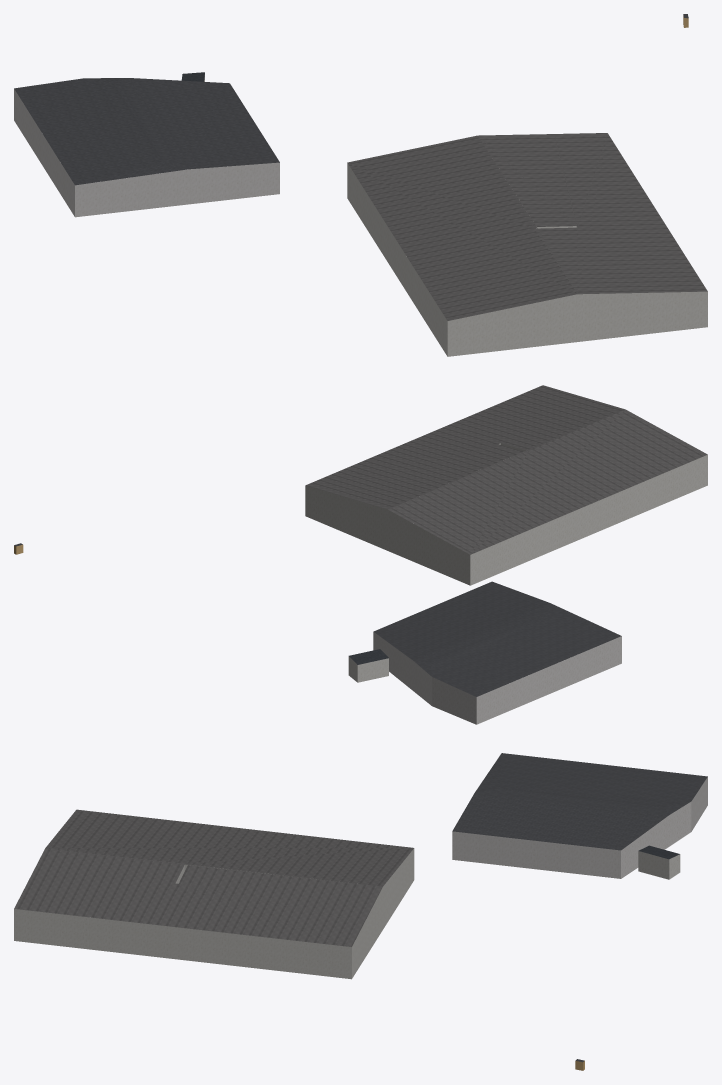
3 renders of one model, top to bottom at view 1: azimuth 30°, elevation 25°; view 2: azimuth 150°, elevation 25°; view 3: azimuth 270°, elevation 25°, orthographic. The views are drawn at different scales.
Parts seen in each view (by area): view 1: bldg_6004321200_roof, bldg_6004321191_roof, bldg_6004321200, bldg_6004321191; view 2: bldg_6004321200_roof, bldg_6004321191_roof, bldg_6004321200, bldg_6004321191, bldg_6004321202; view 3: bldg_6004321200_roof, bldg_6004321191_roof, bldg_6004321200, bldg_6004321191, bldg_6004321202.
Part boxes in pixels (bbox=[...]): bldg_6004321200_roof: bbox=[347, 133, 707, 320]; bldg_6004321191_roof: bbox=[14, 78, 279, 185]; bldg_6004321200: bbox=[347, 163, 707, 356]; bldg_6004321191: bbox=[14, 89, 279, 217]; bldg_6004321200_roof: bbox=[306, 385, 707, 554]; bldg_6004321191_roof: bbox=[373, 581, 621, 696]; bldg_6004321200: bbox=[305, 443, 707, 585]; bldg_6004321191: bbox=[373, 632, 621, 724]; bldg_6004321202: bbox=[348, 656, 388, 682]; bldg_6004321200_roof: bbox=[14, 809, 413, 946]; bldg_6004321191_roof: bbox=[452, 753, 707, 850]; bldg_6004321200: bbox=[14, 848, 414, 979]; bldg_6004321191: bbox=[452, 777, 707, 878]; bldg_6004321202: bbox=[638, 851, 680, 879].
Size of the model in its own units: 171 by 11.93 by 174.
6 materials, 6 textured.
